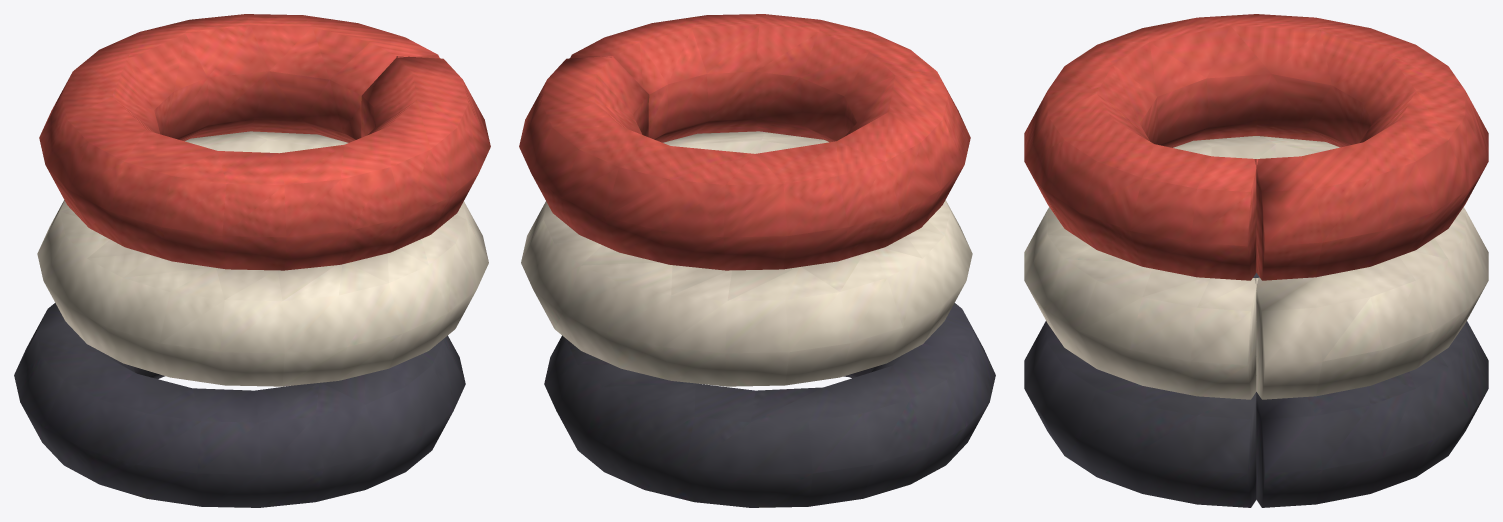
Rendered from race_tire_stack.glb.
3 views of the same model, side by side, from view 1: azimuth 30°, elevation 25°; view 2: azimuth 150°, elevation 25°; view 3: azimuth 270°, elevation 25° (orthographic). The views are drawn at different scales.
Parts seen in each view (by area): view 1: Body; view 2: Body; view 3: Body.
Boxes of the visible parts, x1,y1,x2,y2 form: Body: [14, 14, 490, 507]; Body: [519, 14, 995, 507]; Body: [1024, 14, 1488, 507].
Bounding box in the file's own units: 0.6781 × 0.5258 × 0.6315.
1 material, 1 textured.
